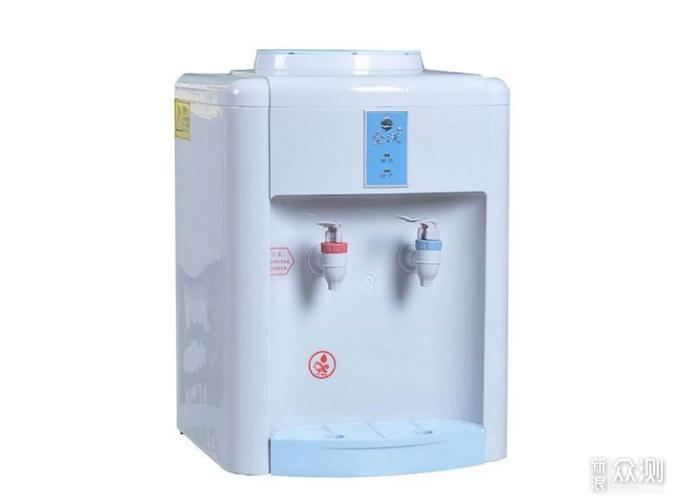Dispenser: (173, 48, 509, 475)
